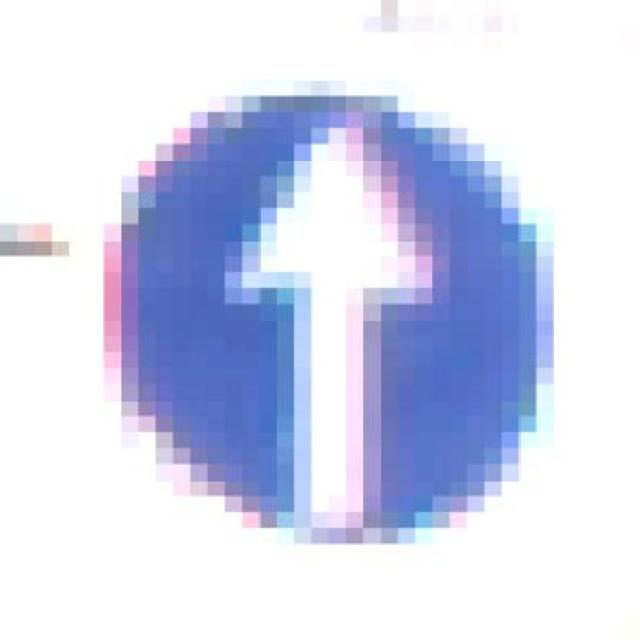Straight Ahead Only: (86, 80, 554, 545)
